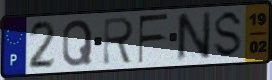2: (27, 20, 58, 70)
F: (138, 12, 171, 66)
N: (175, 9, 213, 64)
Q: (60, 18, 94, 69)
R: (101, 16, 136, 67)
S: (211, 9, 245, 60)
